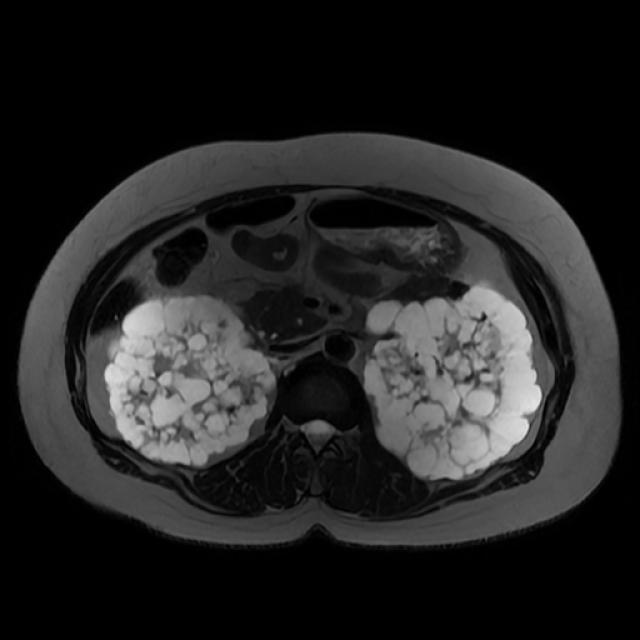sag: (106, 293, 276, 465)
sol: (367, 289, 542, 479)
